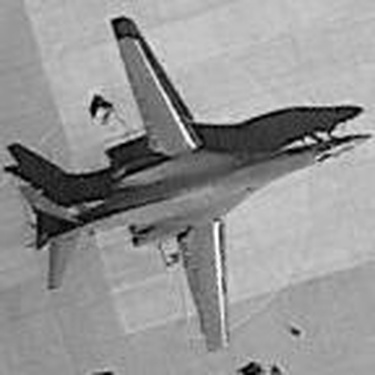airplane: (21, 8, 373, 360)
